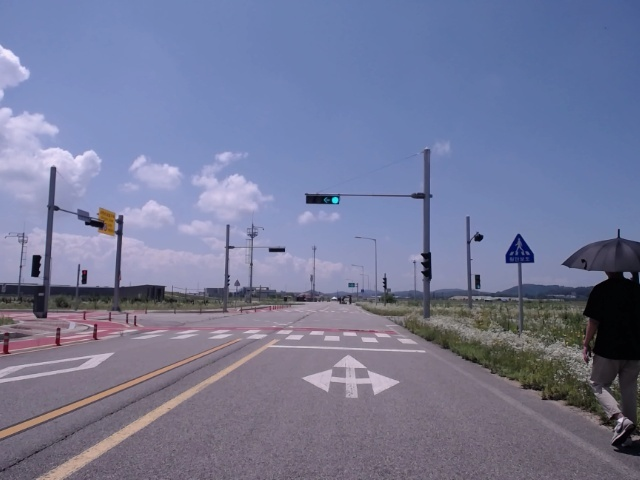all_green_4: (304, 194, 340, 205)
